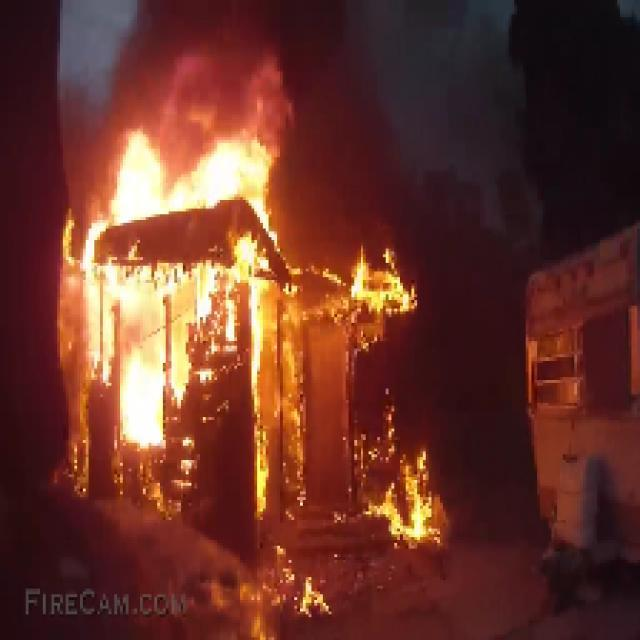Fire: (60, 100, 446, 549), (205, 554, 338, 640)
Smoke: (106, 3, 374, 100), (271, 105, 403, 258)
